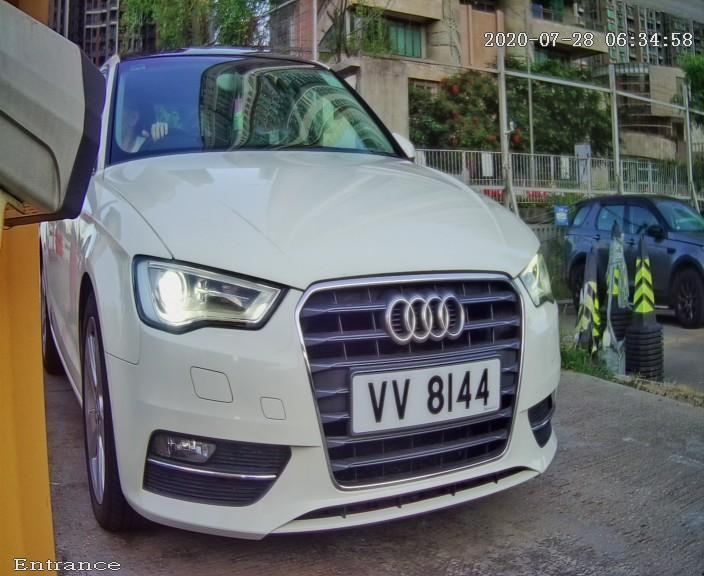privatecar: (35, 11, 610, 569)
